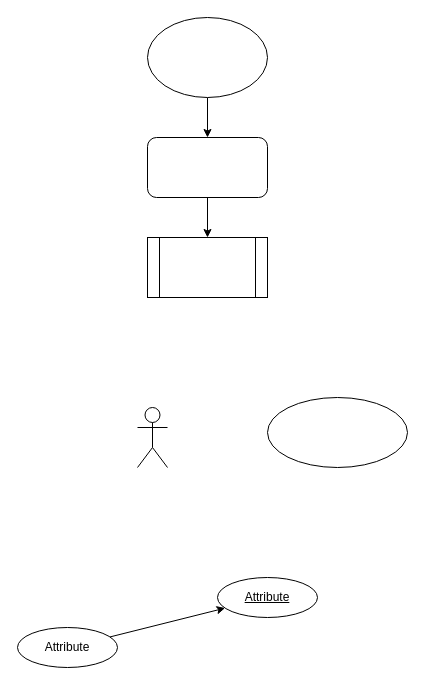
This 425x685 diagram has some shape labels left out. The box of each missing label's shape, as (x1, y1, x2, y2) in pixels:
Actor: (136, 406, 168, 468)
Use Case: (266, 396, 408, 468)
